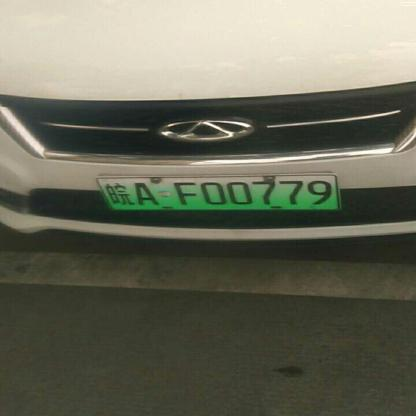lp: (97, 176, 339, 210)
